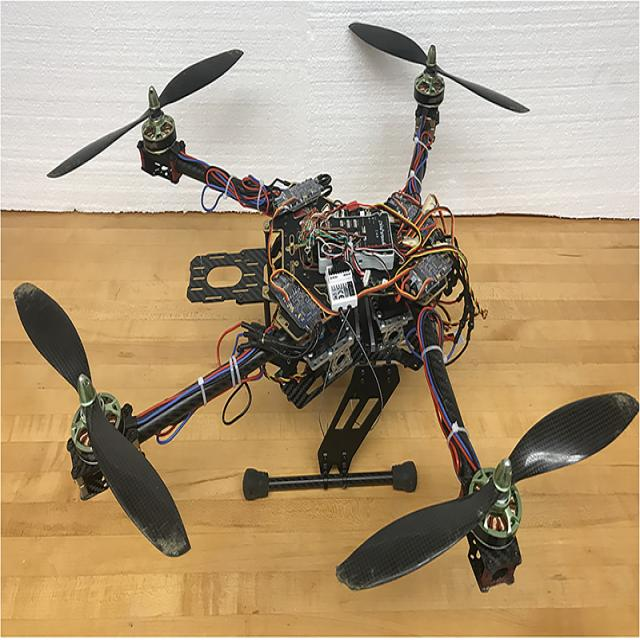drone: (34, 44, 628, 584)
